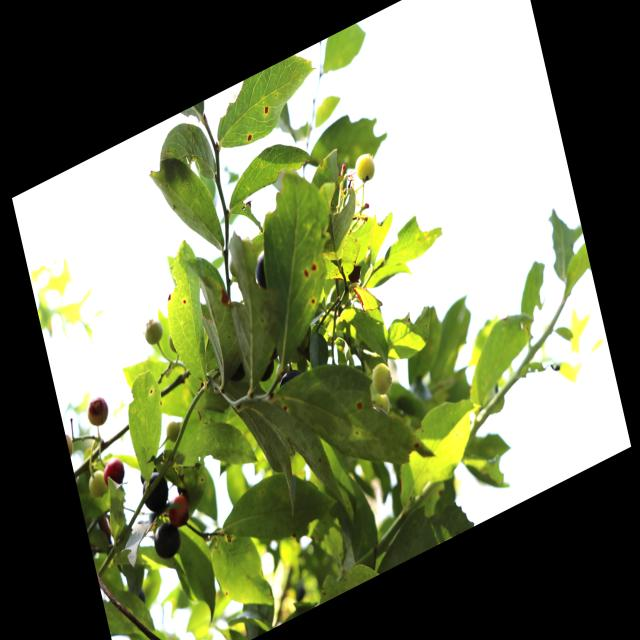blueberry: (139, 468, 173, 520), (150, 515, 184, 563), (251, 248, 274, 293), (277, 365, 304, 390), (257, 359, 277, 384), (229, 361, 248, 384)
blueberry-halfripe: (85, 390, 116, 432), (164, 489, 193, 529), (102, 455, 127, 490)
blueberry-unripe: (351, 147, 378, 189), (369, 357, 395, 398), (85, 465, 110, 501), (142, 316, 166, 346), (162, 416, 183, 444)
